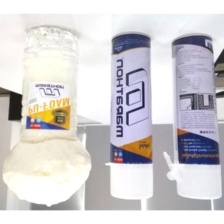aerosol_cans: (168, 31, 224, 202), (103, 29, 156, 202)
